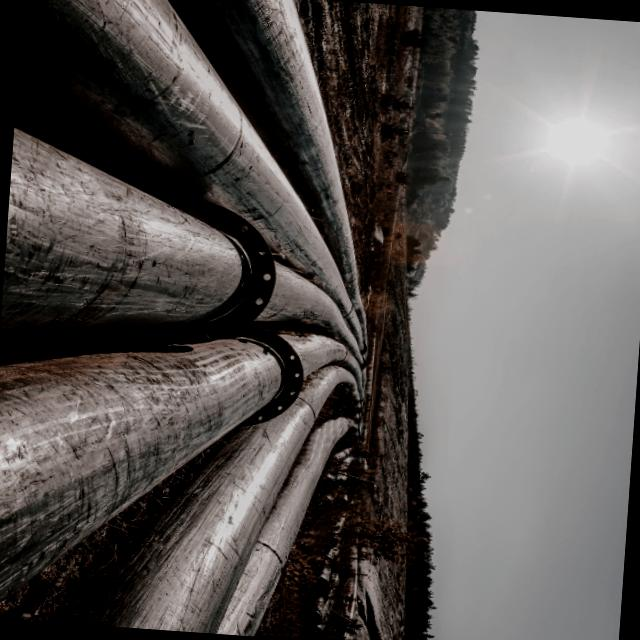gas: (17, 0, 359, 338), (0, 325, 357, 596), (68, 365, 355, 633), (170, 0, 365, 344), (0, 130, 247, 336), (215, 417, 351, 636), (254, 262, 360, 361), (278, 334, 360, 379)
